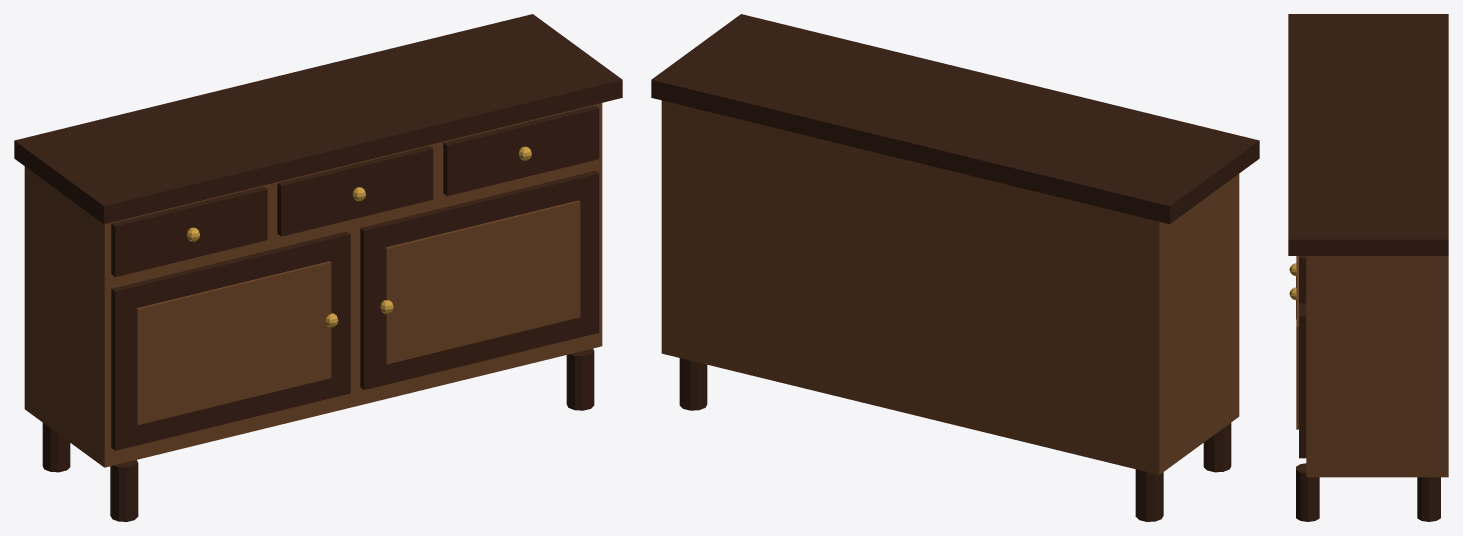
Rendered from aparador.obj.
3 views of the same model, side by side, from view 1: azimuth 30°, elevation 25°; view 2: azimuth 150°, elevation 25°; view 3: azimuth 270°, elevation 25° (orthographic). The views are drawn at different scales.
Visible parts, largest first — view 1: parte_00_madeira_escura, parte_01_madeira, parte_13_madeira, parte_16_madeira, parte_12_madeira_escura, parte_15_madeira_escura, parte_10_madeira_escura, parte_06_madeira_escura, parte_08_madeira_escura, parte_05_madeira_escura, parte_03_madeira_escura, parte_02_madeira_escura; view 2: parte_01_madeira, parte_00_madeira_escura, parte_02_madeira_escura, parte_04_madeira_escura, parte_03_madeira_escura; view 3: parte_00_madeira_escura, parte_01_madeira, parte_15_madeira_escura, parte_05_madeira_escura, parte_04_madeira_escura, parte_16_madeira, parte_10_madeira_escura.
Boxes of the visible parts, x1,y1,x2,y2 form: parte_00_madeira_escura: [14, 14, 622, 224]; parte_01_madeira: [24, 103, 602, 467]; parte_13_madeira: [136, 261, 331, 424]; parte_16_madeira: [385, 200, 580, 364]; parte_12_madeira_escura: [111, 231, 350, 450]; parte_15_madeira_escura: [360, 170, 599, 389]; parte_10_madeira_escura: [443, 105, 599, 196]; parte_06_madeira_escura: [111, 186, 267, 276]; parte_08_madeira_escura: [277, 146, 433, 236]; parte_05_madeira_escura: [566, 348, 594, 410]; parte_03_madeira_escura: [110, 460, 138, 521]; parte_02_madeira_escura: [42, 423, 70, 472]; parte_01_madeira: [661, 100, 1239, 474]; parte_00_madeira_escura: [651, 14, 1259, 224]; parte_02_madeira_escura: [1135, 469, 1163, 521]; parte_04_madeira_escura: [679, 358, 707, 410]; parte_03_madeira_escura: [1203, 423, 1231, 472]; parte_00_madeira_escura: [1288, 14, 1448, 255]; parte_01_madeira: [1306, 256, 1448, 477]; parte_15_madeira_escura: [1299, 303, 1306, 458]; parte_05_madeira_escura: [1296, 463, 1319, 521]; parte_04_madeira_escura: [1417, 477, 1440, 521]; parte_16_madeira: [1296, 256, 1298, 429]; parte_10_madeira_escura: [1299, 256, 1306, 303].
Bounding box in the file's own units: 1.5 × 0.9 × 0.45.
